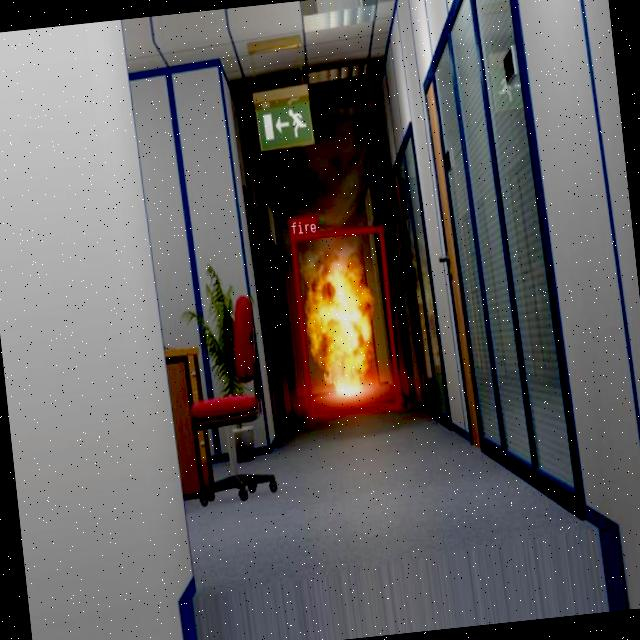fire: (290, 225, 400, 416)
